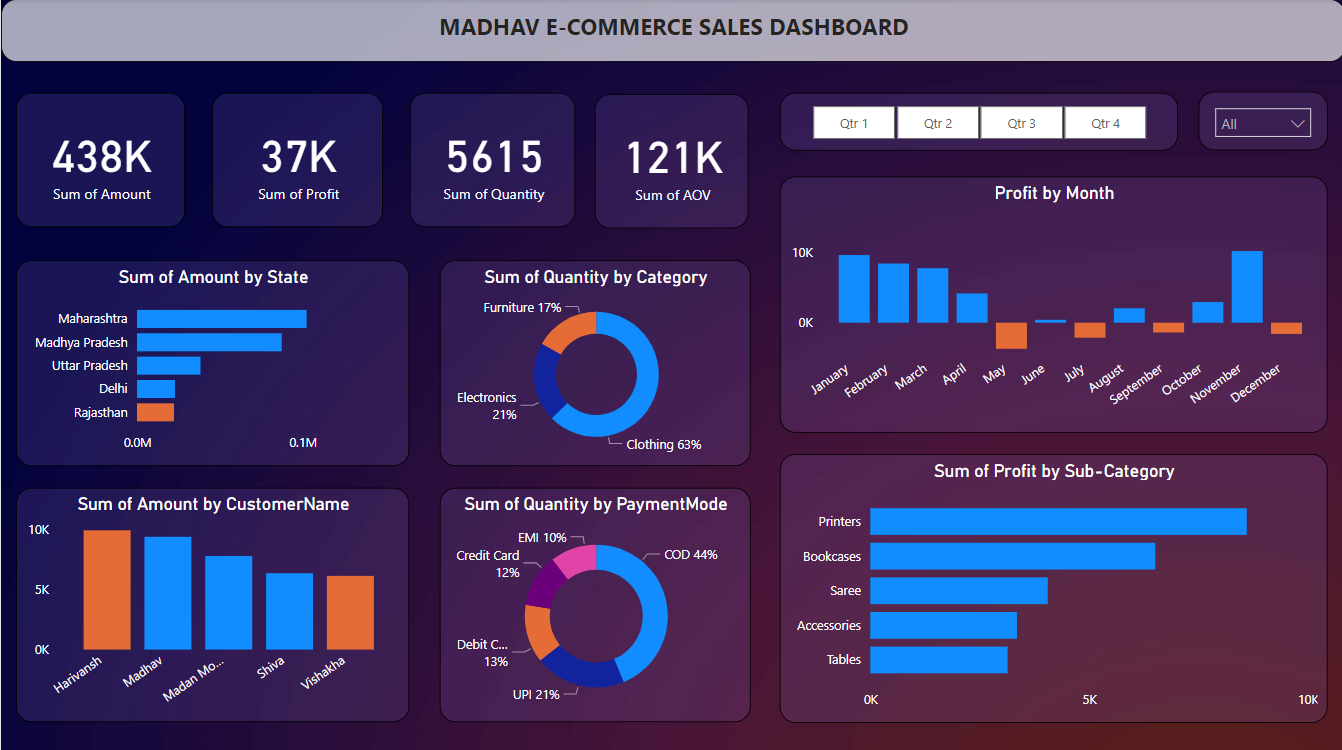

The page's visual inventory and layout, read from the dashboard file:
{"tool":"powerbi","page":{"name":"Page 1","canvas":[1280,720],"ordinal":0},"visuals":[{"type":"textbox","box":[0,0,1280,60],"z":0},{"type":"columnChart","title":"Profit by Month","fields":{"Category":["Orders.Order Date.Variation.Date Hierarchy.Month"],"Y":["Details.Profit"]},"box":[741.4,168.6,521.4,244.3],"z":1000},{"type":"barChart","fields":{"Category":["Details.Sub-Category"],"Y":["Details.Profit"]},"box":[741.4,432.9,521.4,255.7],"z":2000},{"type":"donutChart","fields":{"Category":["Details.Category"],"Y":["Details.Quantity"]},"box":[417.1,248.6,295.7,195.7],"z":3000},{"type":"donutChart","fields":{"Category":["Details.PaymentMode","Details.Category"],"Y":["Details.Quantity"]},"box":[417.1,465.7,295.7,222.9],"z":4000},{"type":"card","fields":{"Values":["Details.Amount"]},"box":[14.4,88.9,161.1,127.8],"z":5000},{"type":"card","fields":{"Values":["Details.Profit"]},"box":[201.1,88.9,162.2,127.8],"z":6000},{"type":"card","fields":{"Values":["Details.Quantity"]},"box":[388.9,88.9,157.8,127.8],"z":7000},{"type":"card","fields":{"Values":["Details.Average Order Value"]},"box":[565.6,90,146.7,127.8],"z":8000},{"type":"barChart","fields":{"Y":["Details.Amount"],"Category":["Orders.State"]},"box":[14.3,248.6,374.3,195.7],"z":9000},{"type":"slicer","fields":{"Values":["Orders.Order Date.Variation.Date Hierarchy.Quarter"]},"box":[741.1,88.9,378.9,55.6],"z":10000},{"type":"slicer","fields":{"Values":["Orders.State"]},"box":[1140,88.6,122.9,55.7],"z":11000},{"type":"columnChart","title":"Sum of  Amount by CustomerName","fields":{"Y":["Details.Amount"],"Category":["Orders.CustomerName"]},"box":[14.3,465.7,374.3,222.9],"z":12000}]}

Visuals, with their boxes in screenshot pixels (x1, y1, x2, y2), scaled from the page's 1280x720 canvas onto the 1342x750 screenshot:
textbox: [0, 0, 1341, 63]
"Profit by Month" columnChart: [777, 176, 1324, 430]
barChart - Details.Sub-Category x Details.Profit: [777, 451, 1324, 717]
donutChart - Details.Category x Details.Quantity: [437, 259, 747, 463]
donutChart - Details.PaymentMode x Details.Category: [437, 485, 747, 717]
card - Details.Amount: [15, 93, 184, 226]
card - Details.Profit: [211, 93, 381, 226]
card - Details.Quantity: [408, 93, 573, 226]
card - Details.Average Order Value: [593, 94, 747, 227]
barChart - Details.Amount x Orders.State: [15, 259, 407, 463]
slicer - Orders.Order Date.Variation.Date Hierarchy.Quarter: [777, 93, 1174, 151]
slicer - Orders.State: [1195, 92, 1324, 150]
"Sum of  Amount by CustomerName" columnChart: [15, 485, 407, 717]
